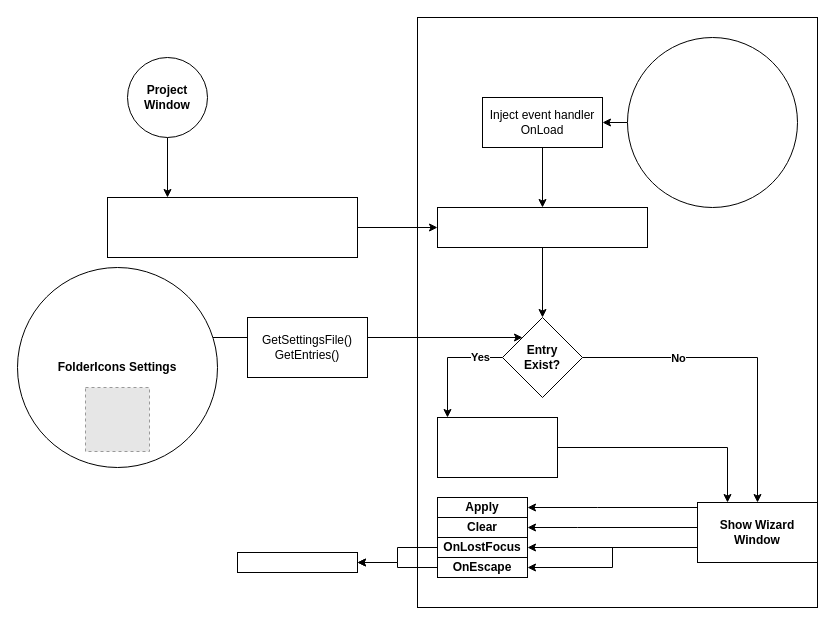
This 835x625 diagram has some shape labels left out. Grey dashed boxes stand in for pictures. Here are the shapes that lost their labels. From the top down, the centre of each, then its label:
At [712,122]: "FolderIconCreationWizard".
At [232,227]: "Fires event: EditorApplication.projectWindowItemOnGUI".
At [542,227]: "- assert that required keys pressd. - open wizard. (pass guid)".
At [497,447]: "Get Entry Info".
At [297,562]: "Close Window".
